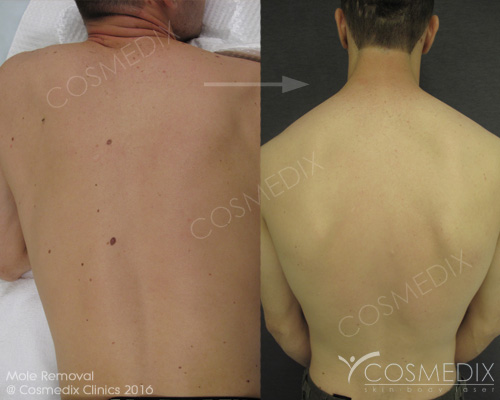mole: (104, 231, 120, 250), (101, 137, 115, 148), (42, 247, 56, 256), (38, 114, 48, 125), (241, 376, 252, 386), (93, 207, 103, 216), (78, 260, 87, 269)
